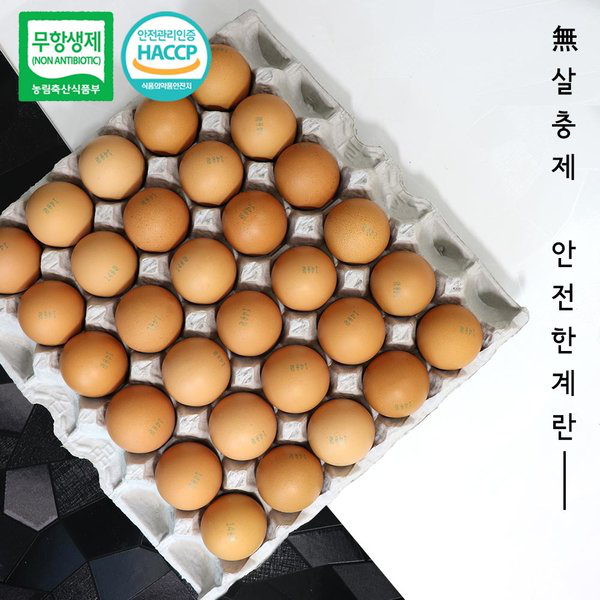egg: (1, 41, 488, 564)
